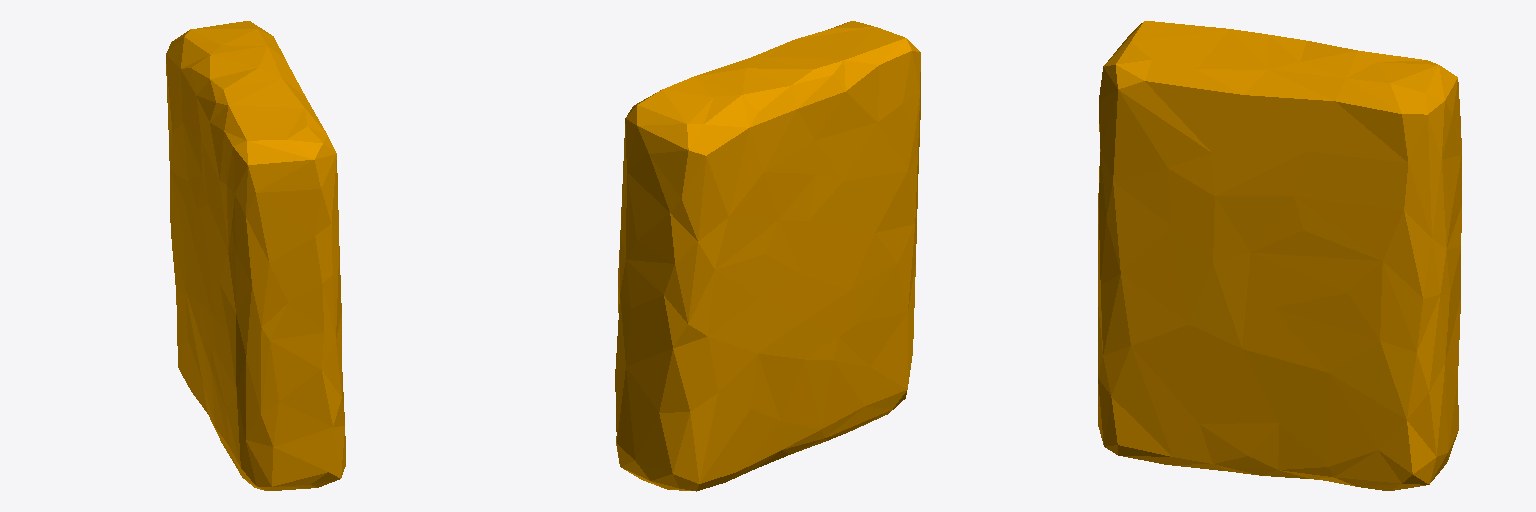
The robot description file, URDF, robot "spongebob_squarepants_fruit_snaks":
<?xml version="1.0"?>
<robot name="spongebob_squarepants_fruit_snaks">
  <link name="base_link">
    <contact>
      <lateral_friction value="1.0"/>
      <rolling_friction value="0.0"/>
      <contact_cfm value="0.0"/>
      <contact_erp value="1.0"/>
    </contact>
    <inertial>
      <mass value="0.991114840323"/>
      <inertia ixx="1" ixy="0" ixz="0" iyy="1" iyz="0" izz="1"/>
    </inertial>
    <visual>
      <geometry>
        <mesh filename="spongebob_squarepants_fruit_snaks_visual.obj"/>
      </geometry>
    </visual>
    <collision>
      <geometry>
        <mesh filename="spongebob_squarepants_fruit_snaks_collision.obj"/>
      </geometry>
    </collision>
  </link>
</robot>

--- Render facts (derived) ---
3 views of the same robot in one strip: view 1: azimuth 30°, elevation 25°; view 2: azimuth 150°, elevation 25°; view 3: azimuth 270°, elevation 25° (orthographic).
Model spongebob_squarepants_fruit_snaks with 1 links and 0 joints (none), rooted at base_link, posed every joint at zero.
Visible links, largest first — view 1: base_link; view 2: base_link; view 3: base_link.
Link boxes in pixels (box(x1,y1,x2,y2)): base_link: box(166, 21, 345, 490); base_link: box(615, 21, 920, 491); base_link: box(1098, 21, 1461, 490).
Bounding box of the posed robot: 0.0413 × 0.07 × 0.0863 m (x, y, z).
1 mesh visuals loaded from 1 distinct referenced files (1 OBJ).
